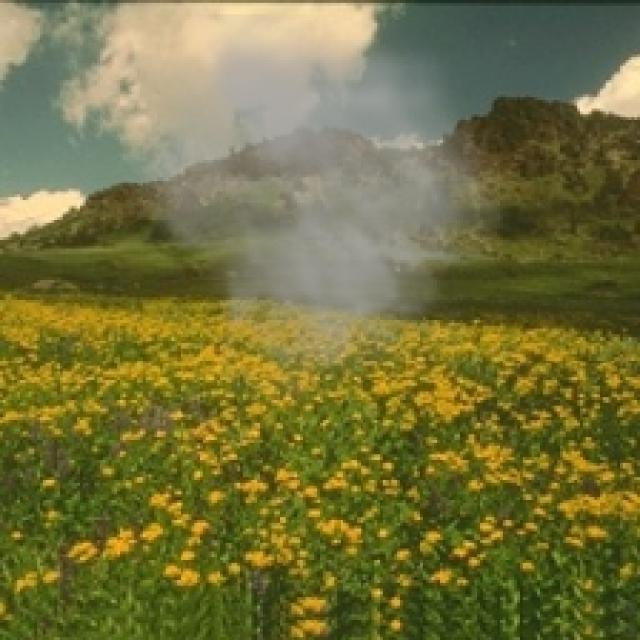smoke: (117, 14, 520, 414)
